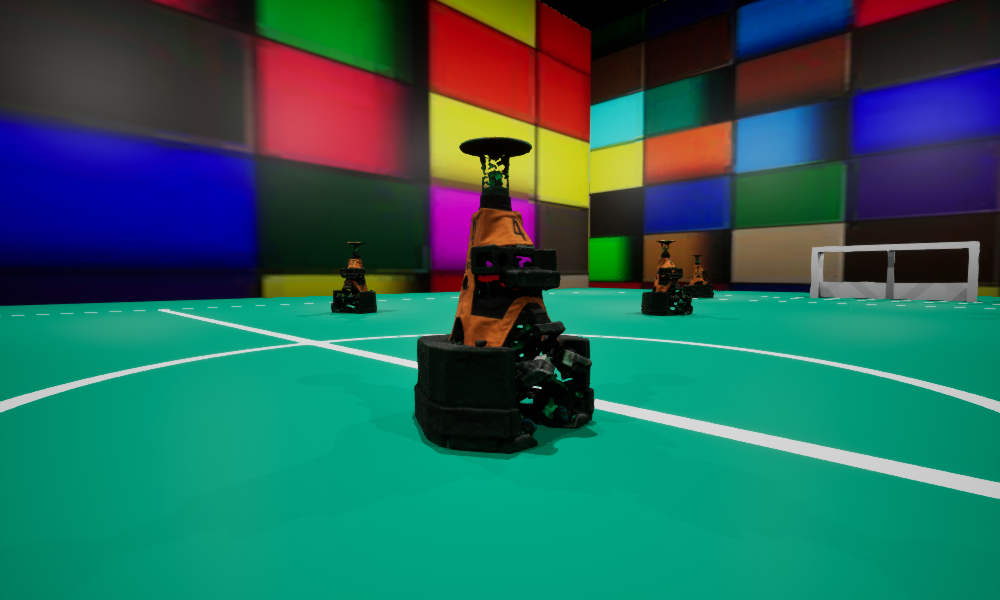o: (414, 136, 593, 453), (641, 240, 692, 315), (331, 242, 376, 312), (683, 255, 713, 297)
